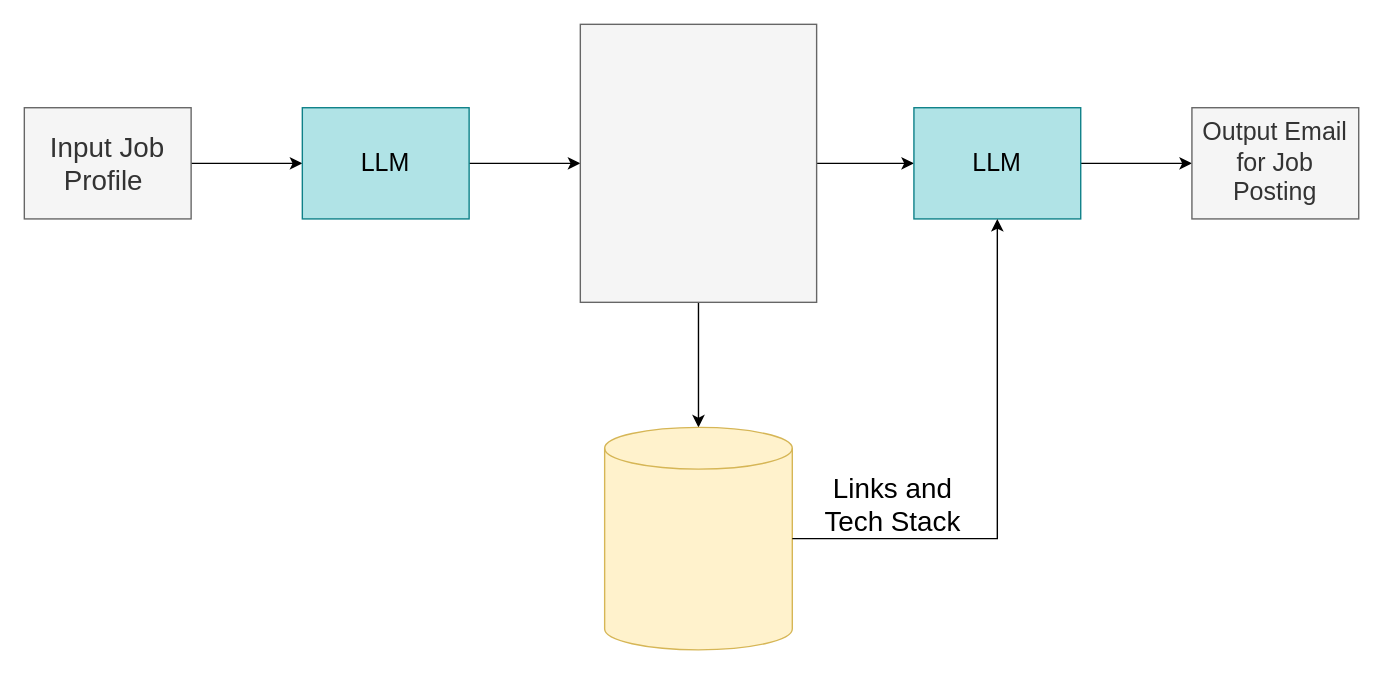
Some shapes in this 1383 by 674 pixel diagram are drawn without their labels. The box of each missing label's shape, as (x1, y1, x2, y2) in pixels:
Scraped Job Profile, Skills, Qualifications, Requirmemts: (579, 23, 817, 302)
Vector Database of existing projects, TechStack and GitHub Links: (603, 426, 792, 650)
